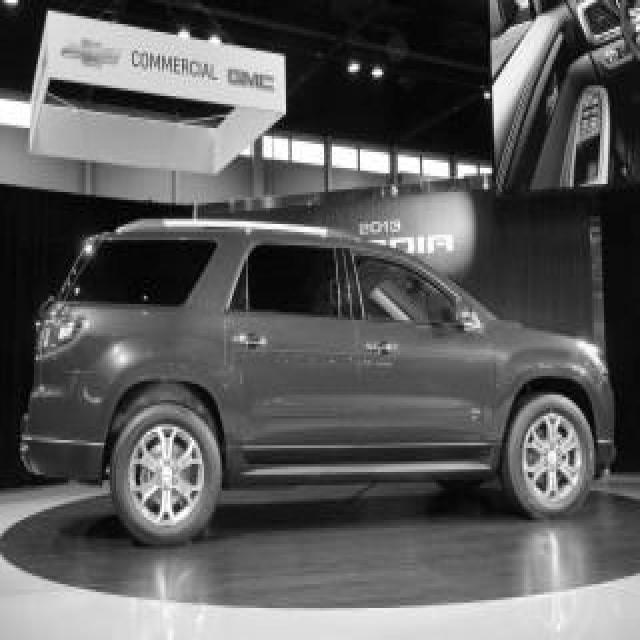Car: (20, 207, 623, 538)
